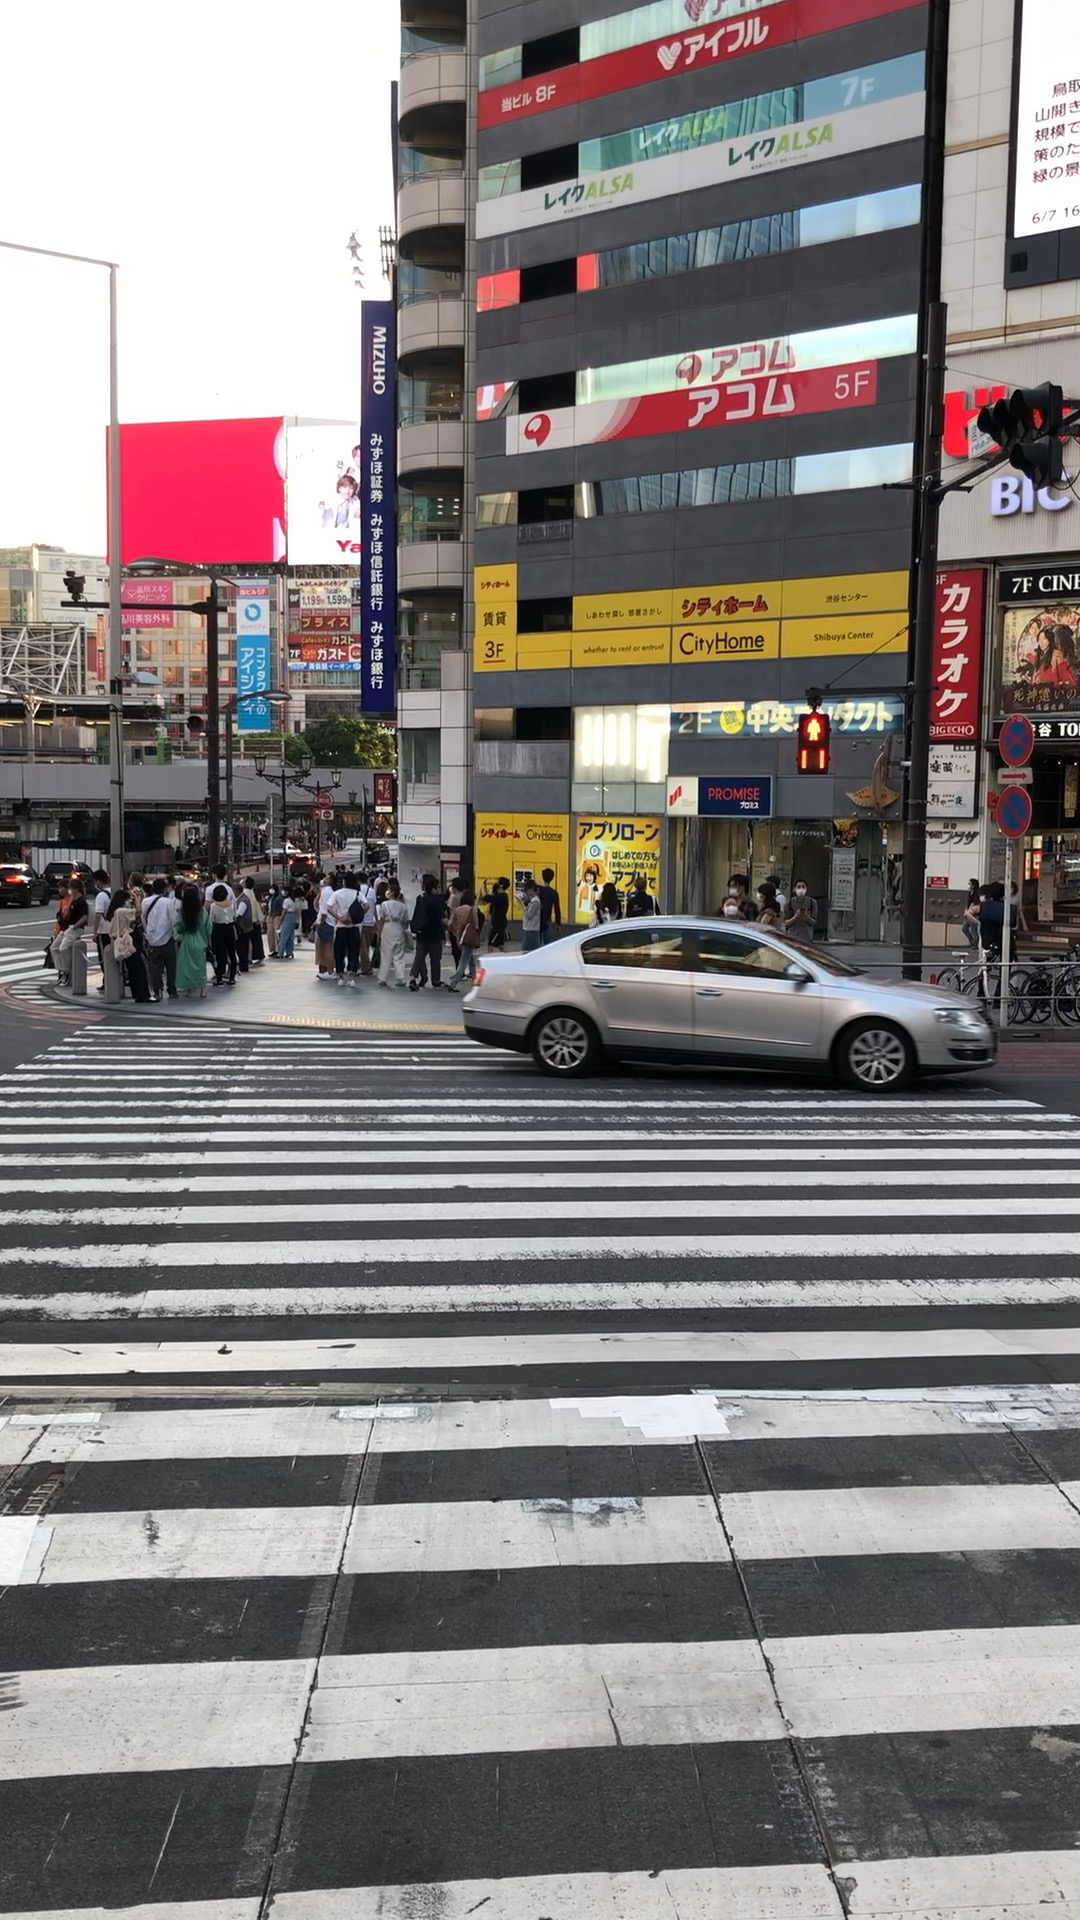red: (798, 713, 829, 774)
